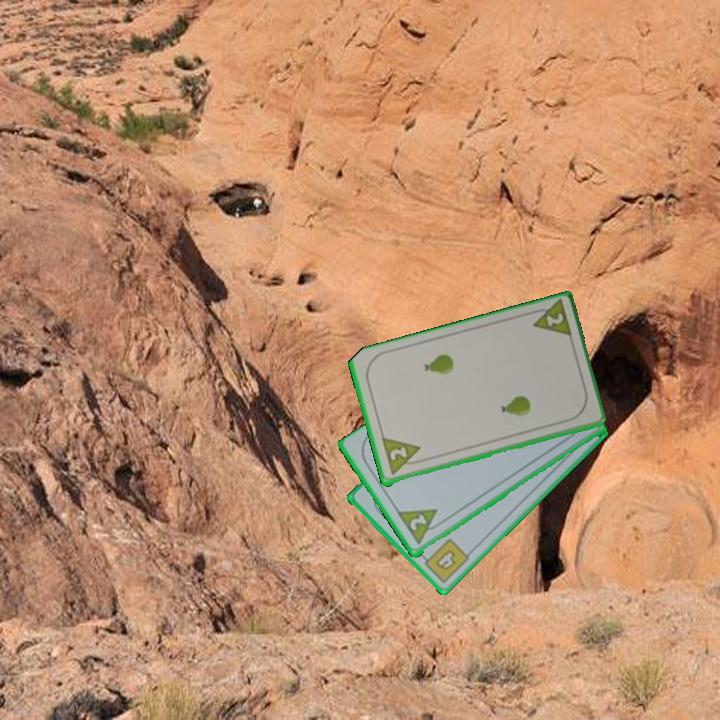2p: (525, 298, 575, 342), (378, 435, 426, 478), (406, 511, 430, 534)
4b: (417, 535, 472, 586)
